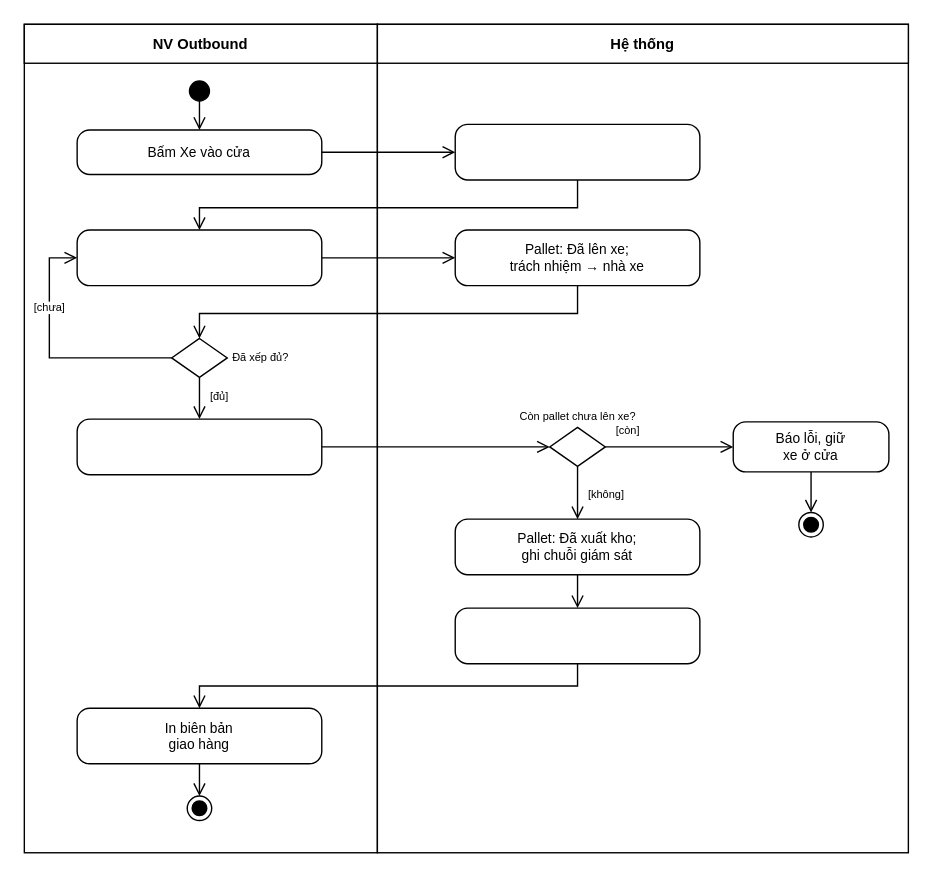
This 933x877 diagram has some shape labels left out. Here are the shapes that lost their labels. From the top down, the centre of each, then its label:
At (x=577, y=151): "Kiểm tra cửa trống; chuyến: Đang ở cửa".
At (x=199, y=257): "Bấm Lên xe cho pallet".
At (x=199, y=446): "Nhập số seal, bấm Xe rời kho".
At (x=577, y=635): "Chuyến: Đã rời kho; lưu seal; cửa: Trống".
